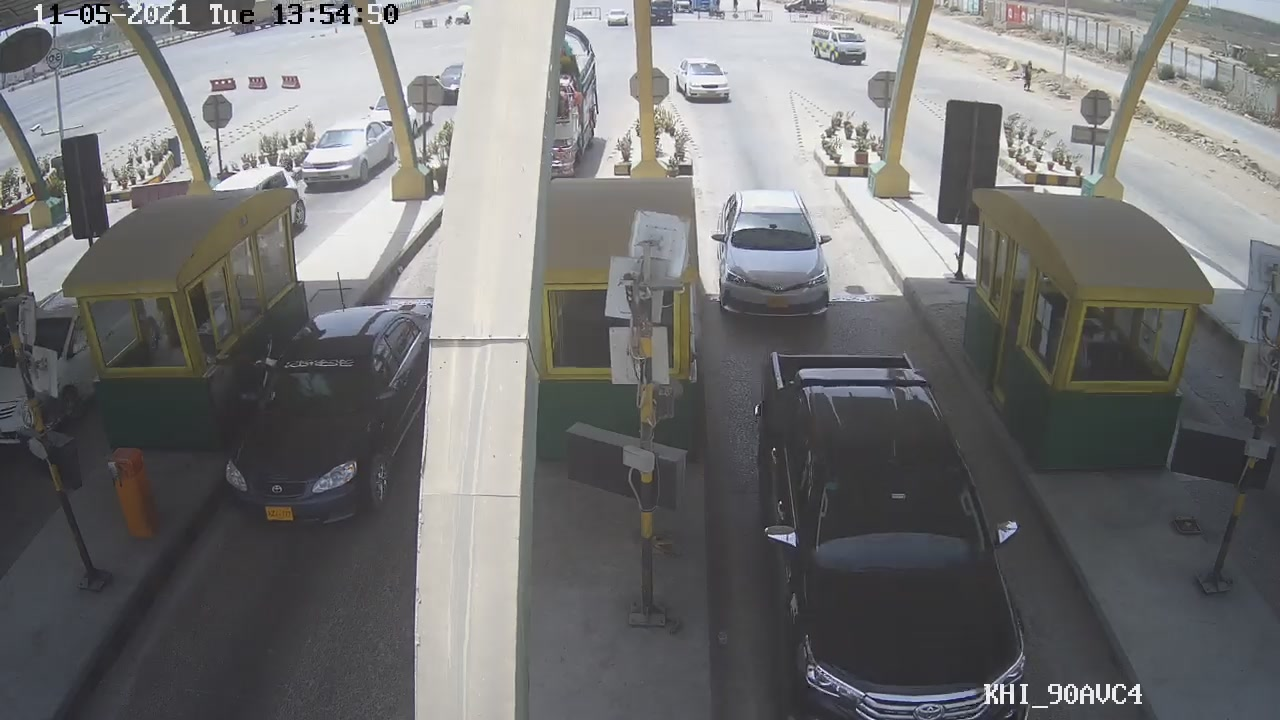F1: (706, 175, 840, 323)
